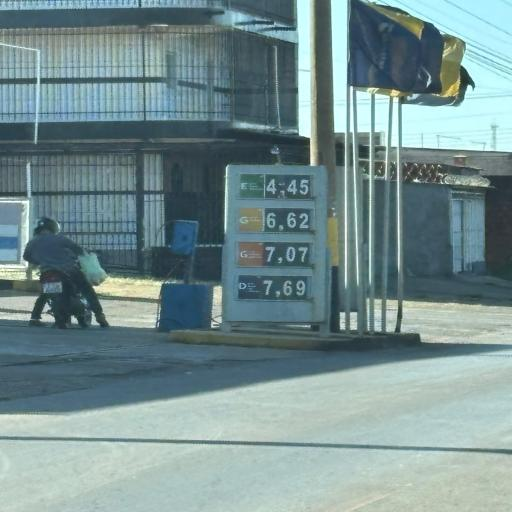ETANOL: (238, 173, 264, 198)
GASOLINA AD: (236, 245, 265, 264)
GASOLINA C: (239, 209, 263, 231)
S10: (237, 274, 264, 300)
placa: (227, 164, 326, 320)
preco: (266, 208, 312, 232), (267, 174, 312, 198), (266, 244, 310, 267), (264, 278, 308, 300)
